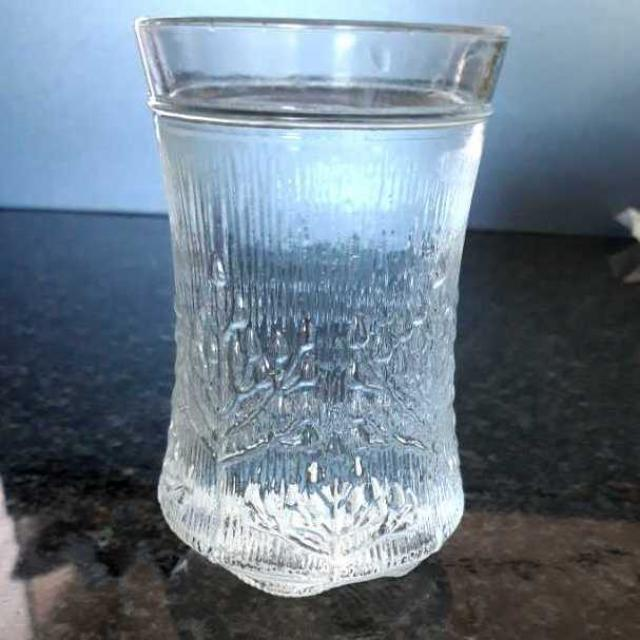water: (162, 93, 483, 535)
